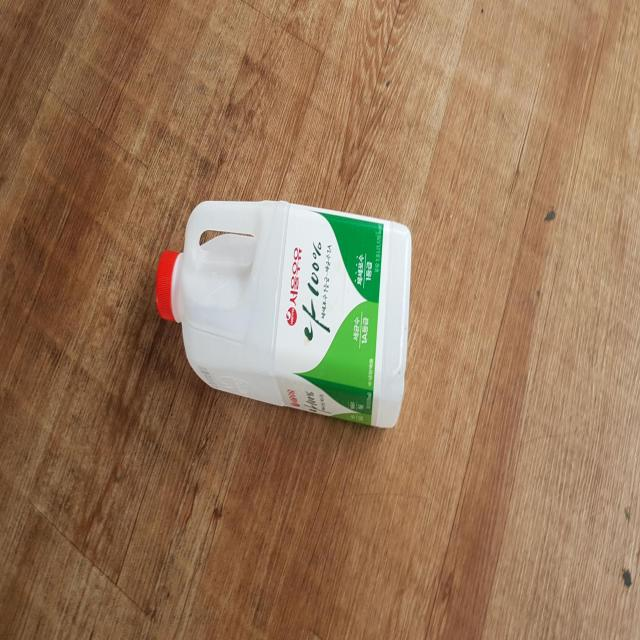plastic: (157, 200, 412, 426)
